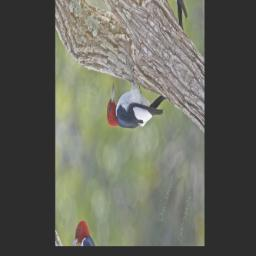Woodpecker: (101, 44, 169, 170)
